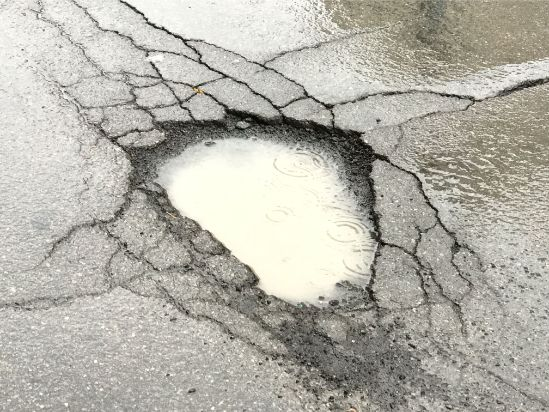pothole: (121, 110, 388, 311)
